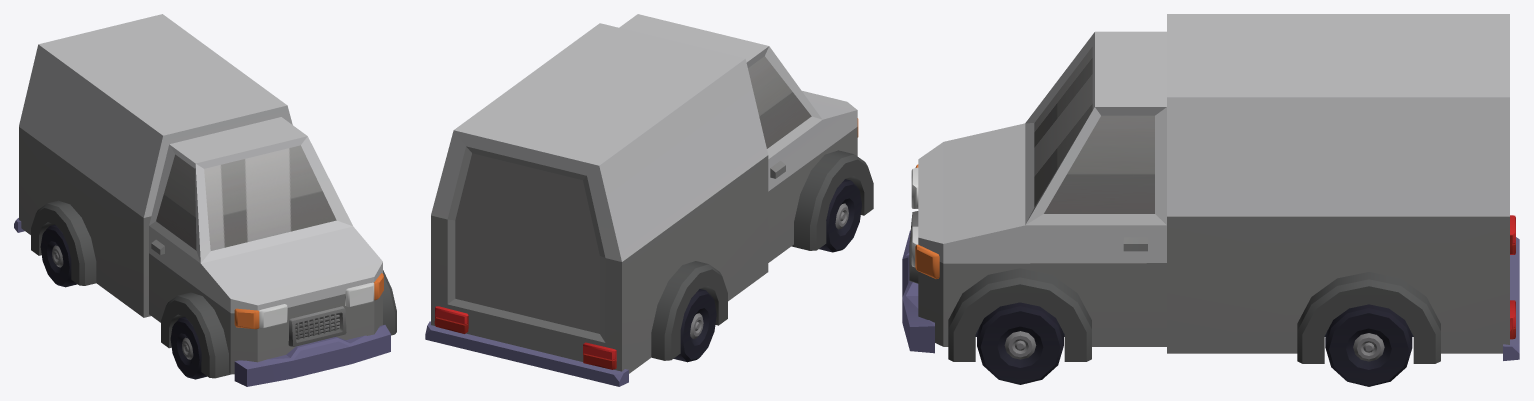
File: Van_7.glb
3 views of the same model, side by side, from view 1: azimuth 30°, elevation 25°; view 2: azimuth 150°, elevation 25°; view 3: azimuth 270°, elevation 25° (orthographic). The views are drawn at different scales.
Parts seen in each view (by area): view 1: Van_7, wheel_FR, wheel_BR; view 2: Van_7, wheel_BR, wheel_FR; view 3: Van_7, wheel_BL, wheel_FL.
Part boxes in pixels (box(x1,y1,x2,y2)): Van_7: box(14, 14, 396, 386); wheel_FR: box(170, 317, 207, 379); wheel_BR: box(40, 224, 77, 287); Van_7: box(425, 14, 873, 386); wheel_BR: box(673, 289, 716, 362); wheel_FR: box(819, 179, 861, 252); Van_7: box(902, 14, 1519, 363); wheel_BL: box(1325, 304, 1412, 386); wheel_FL: box(977, 302, 1063, 384).
Size of the model in its own units: 1.23 by 1.19 by 2.48.
5 materials, 5 textured.
